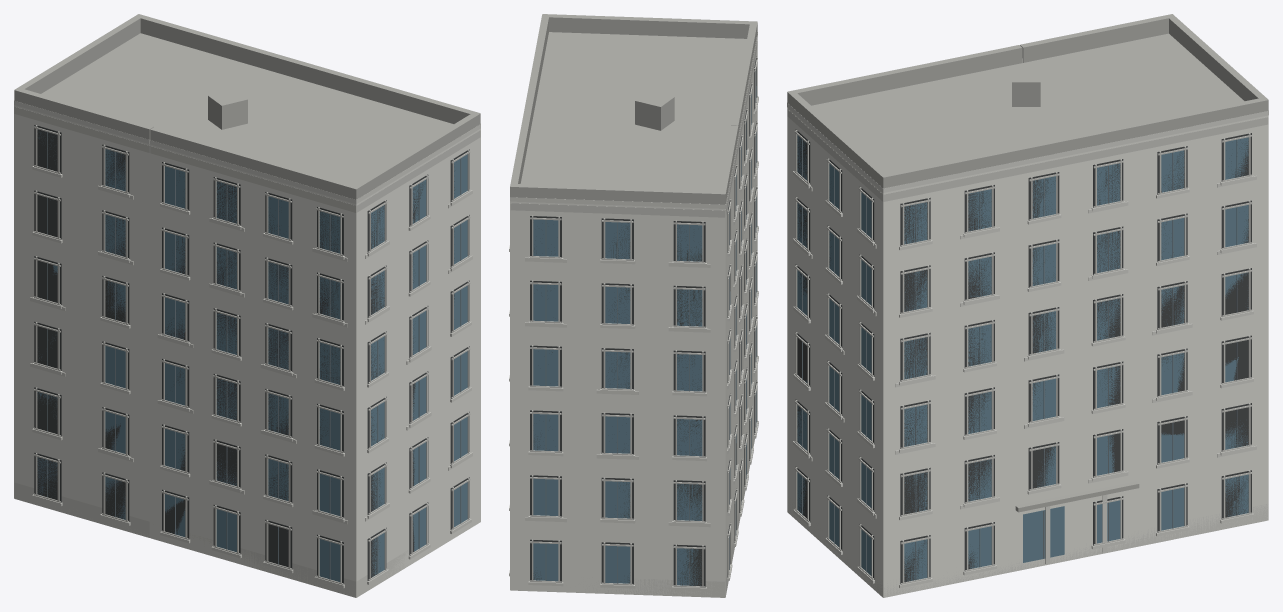
File: cop_residencial_compacto_04__way_587517181.fbx
3 views of the same model, side by side, from view 1: azimuth 30°, elevation 25°; view 2: azimuth 150°, elevation 25°; view 3: azimuth 270°, elevation 25° (orthographic). The views are drawn at different scales.
Parts seen in each view (by area): view 1: cop_residencial_compacto_04__way_587517181_wall, cop_residencial_compacto_04__way_587517181_roof, cop_residencial_compacto_04__way_587517181_glass, cop_residencial_compacto_04__way_587517181_shadow, cop_residencial_compacto_04__way_587517181_trim, cop_residencial_compacto_04__way_587517181_stone, cop_residencial_compacto_04__way_587517181_metal; view 2: cop_residencial_compacto_04__way_587517181_wall, cop_residencial_compacto_04__way_587517181_roof, cop_residencial_compacto_04__way_587517181_glass, cop_residencial_compacto_04__way_587517181_trim, cop_residencial_compacto_04__way_587517181_shadow, cop_residencial_compacto_04__way_587517181_stone, cop_residencial_compacto_04__way_587517181_metal; view 3: cop_residencial_compacto_04__way_587517181_wall, cop_residencial_compacto_04__way_587517181_roof, cop_residencial_compacto_04__way_587517181_glass, cop_residencial_compacto_04__way_587517181_shadow, cop_residencial_compacto_04__way_587517181_trim, cop_residencial_compacto_04__way_587517181_stone, cop_residencial_compacto_04__way_587517181_metal.
Part boxes in pixels (x1,y1,x2,y2): cop_residencial_compacto_04__way_587517181_wall: (14, 105, 480, 597); cop_residencial_compacto_04__way_587517181_roof: (14, 14, 480, 199); cop_residencial_compacto_04__way_587517181_glass: (37, 129, 467, 582); cop_residencial_compacto_04__way_587517181_shadow: (34, 125, 469, 584); cop_residencial_compacto_04__way_587517181_trim: (14, 106, 480, 584); cop_residencial_compacto_04__way_587517181_stone: (14, 100, 480, 597); cop_residencial_compacto_04__way_587517181_metal: (47, 132, 461, 579); cop_residencial_compacto_04__way_587517181_wall: (510, 46, 757, 597); cop_residencial_compacto_04__way_587517181_roof: (510, 14, 757, 204); cop_residencial_compacto_04__way_587517181_glass: (533, 86, 756, 585); cop_residencial_compacto_04__way_587517181_trim: (510, 39, 757, 587); cop_residencial_compacto_04__way_587517181_shadow: (530, 56, 756, 587); cop_residencial_compacto_04__way_587517181_stone: (509, 32, 758, 597); cop_residencial_compacto_04__way_587517181_metal: (545, 69, 756, 585); cop_residencial_compacto_04__way_587517181_wall: (787, 107, 1268, 597); cop_residencial_compacto_04__way_587517181_roof: (787, 14, 1268, 512); cop_residencial_compacto_04__way_587517181_glass: (797, 135, 1248, 581); cop_residencial_compacto_04__way_587517181_shadow: (795, 129, 1251, 583); cop_residencial_compacto_04__way_587517181_trim: (787, 109, 1268, 584); cop_residencial_compacto_04__way_587517181_stone: (787, 58, 1268, 597); cop_residencial_compacto_04__way_587517181_metal: (802, 139, 1237, 580).
Size of the model in its own units: 1561 by 1912 by 1941.
